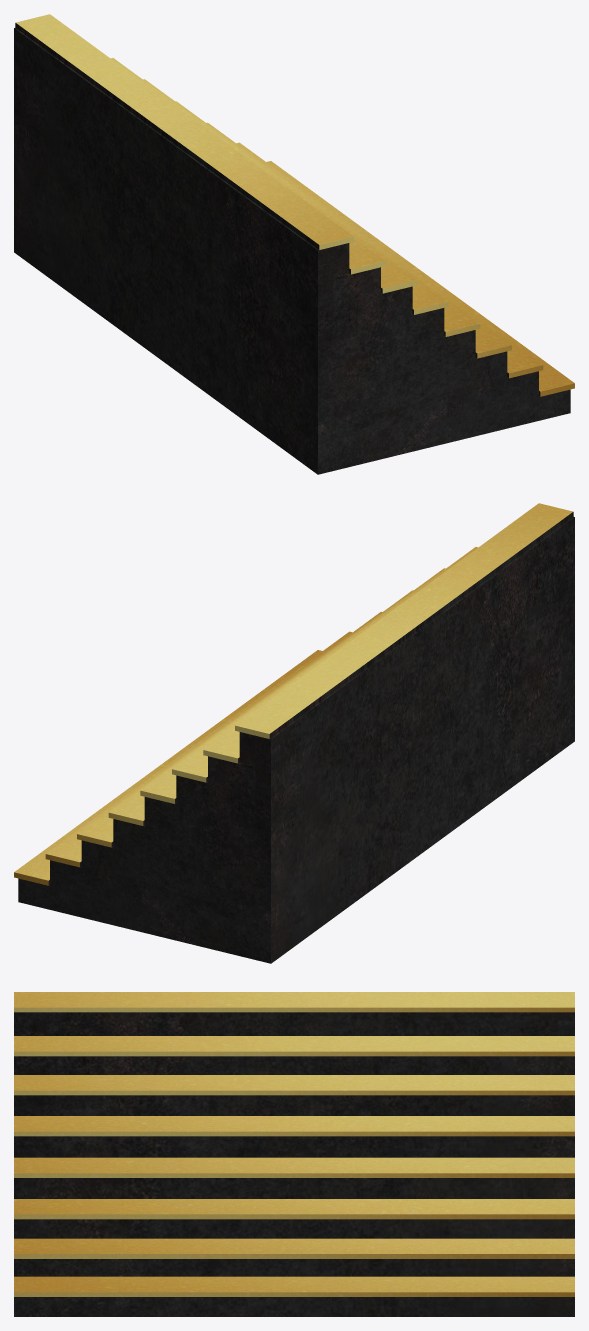
Rendered from Stairs.fbx.
3 views of the same model, one above another, from view 1: azimuth 30°, elevation 25°; view 2: azimuth 150°, elevation 25°; view 3: azimuth 270°, elevation 25° (orthographic). The views are drawn at different scales.
Visible parts, largest first — view 1: pCube13; view 2: pCube13; view 3: pCube13.
Boxes of the visible parts, x1=… form: pCube13: x1=14, y1=14, x2=574, y2=474; pCube13: x1=14, y1=503, x2=574, y2=963; pCube13: x1=14, y1=992, x2=574, y2=1316.
Bounding box in the file's own units: 20.94 × 17.85 × 42.86.
Materials: 2 (2 with a texture image).
